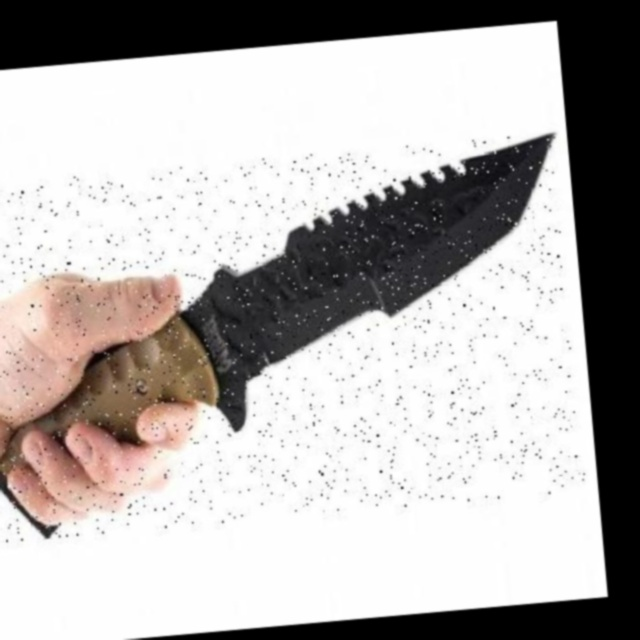Sharp-Object: (0, 134, 586, 543)
